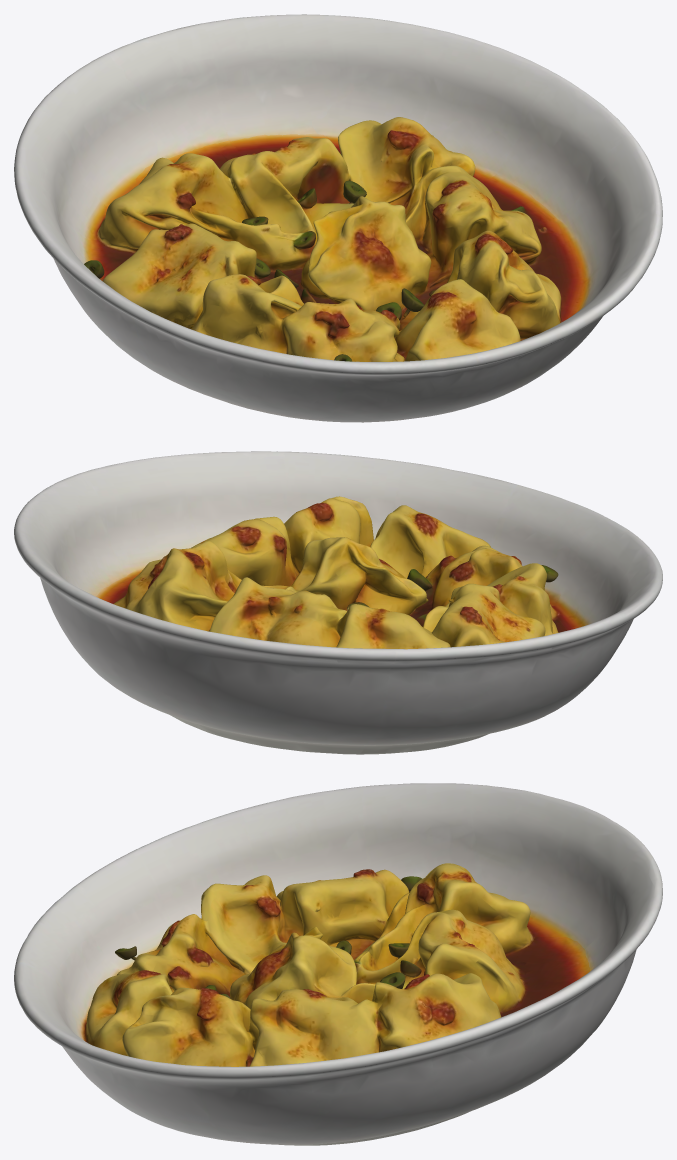
Rendered from red-oil-wontons.glb.
The picture shows the model from 3 angles, top to bottom: view 1: azimuth 30°, elevation 25°; view 2: azimuth 150°, elevation 25°; view 3: azimuth 270°, elevation 25°; orthographic projection.
Parts seen in each view (by area): view 1: tripo_node_a9368bff-d8a1-4fc6-9cf4-0d95fb6d1078; view 2: tripo_node_a9368bff-d8a1-4fc6-9cf4-0d95fb6d1078; view 3: tripo_node_a9368bff-d8a1-4fc6-9cf4-0d95fb6d1078.
Boxes of the visible parts, x1,y1,x2,y2 form: tripo_node_a9368bff-d8a1-4fc6-9cf4-0d95fb6d1078: [14, 14, 662, 422]; tripo_node_a9368bff-d8a1-4fc6-9cf4-0d95fb6d1078: [14, 451, 662, 754]; tripo_node_a9368bff-d8a1-4fc6-9cf4-0d95fb6d1078: [14, 783, 662, 1145].
Bounding box in the file's own units: 0.9999 × 0.3423 × 0.9983.
1 material, 1 textured.
